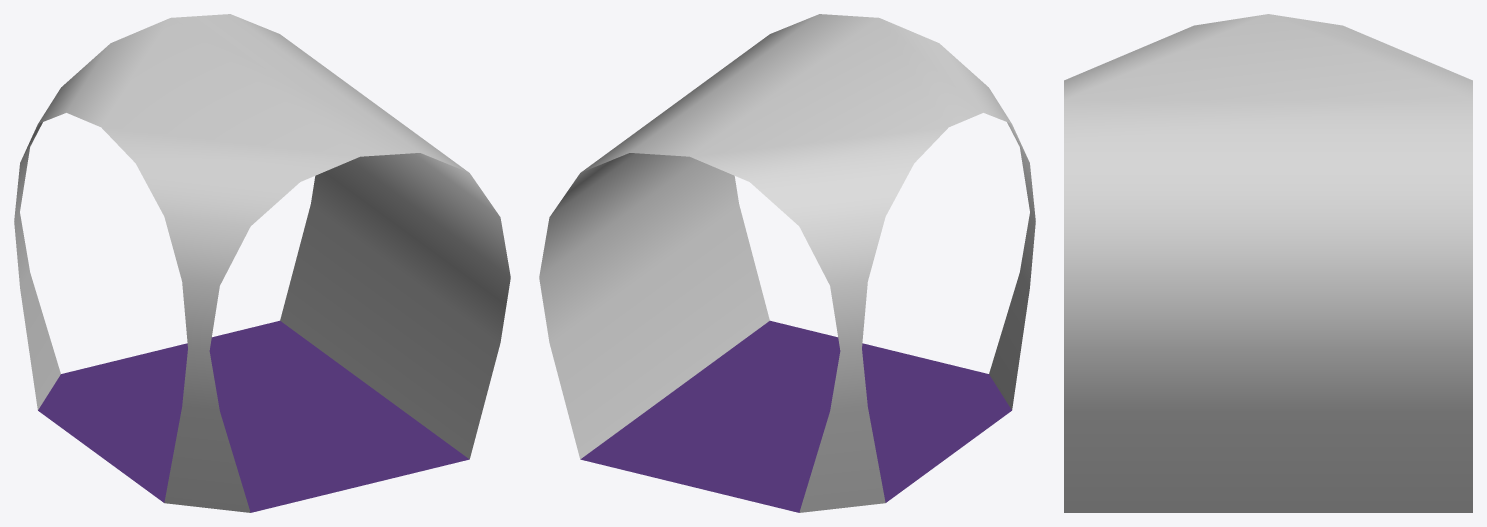
The model's file is corridor_caveFBR.fbx.
3 views of the same model, side by side, from view 1: azimuth 30°, elevation 25°; view 2: azimuth 150°, elevation 25°; view 3: azimuth 270°, elevation 25° (orthographic). The views are drawn at different scales.
Parts seen in each view (by area): view 1: FBR; view 2: FBR; view 3: FBR.
Boxes of the visible parts, box(x1,y1,x2,y2) form: FBR: box(14, 14, 510, 512); FBR: box(539, 14, 1035, 512); FBR: box(1064, 14, 1472, 512).
Size of the model in its own units: 192 by 192 by 200.
